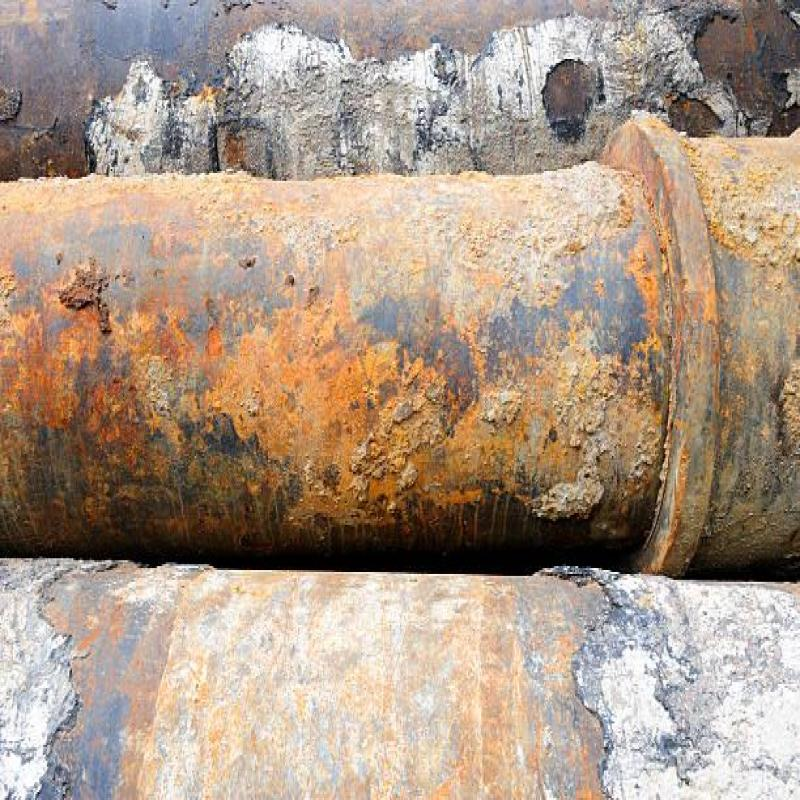corrosion: (2, 161, 800, 578)
